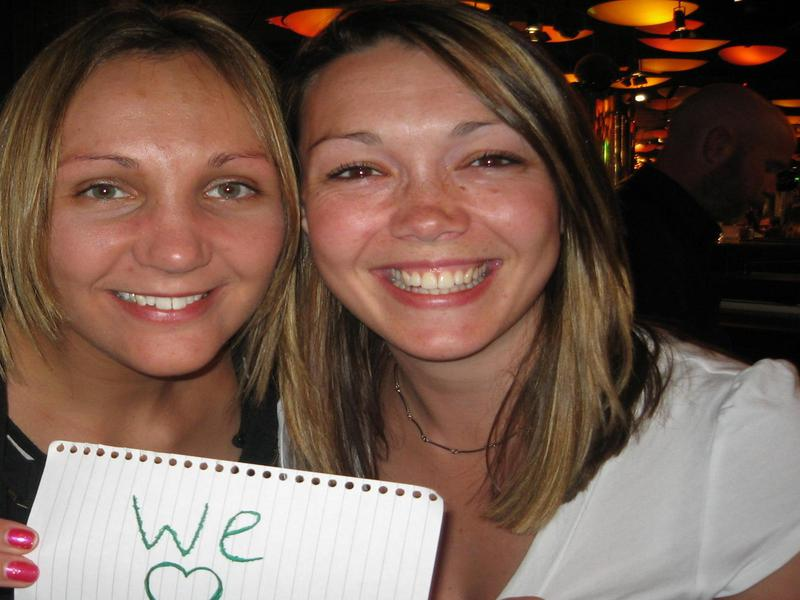person: (294, 7, 798, 597), (6, 7, 313, 600)
